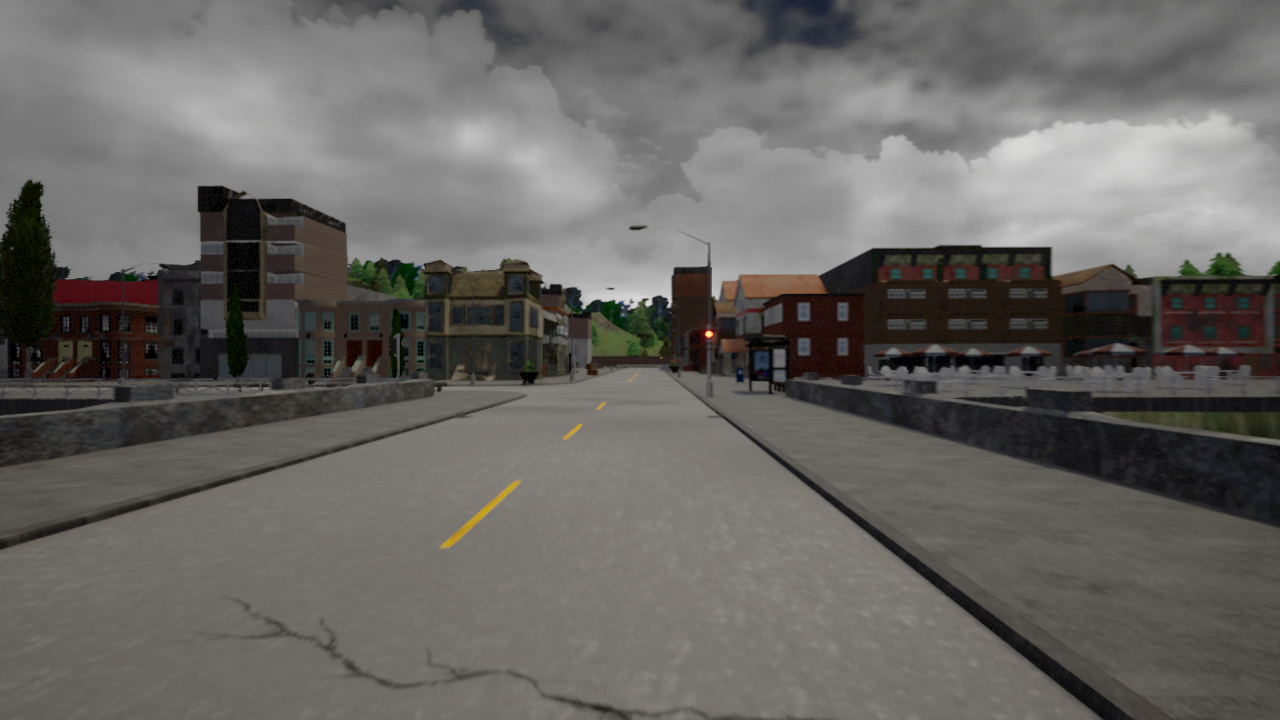red: (705, 329, 714, 351)
